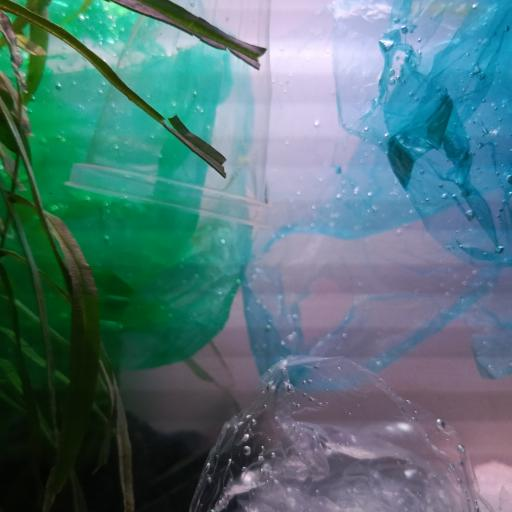plastic_bag: (247, 0, 512, 399), (2, 1, 250, 365), (193, 353, 512, 512)
plastic_cup: (71, 0, 271, 232)
